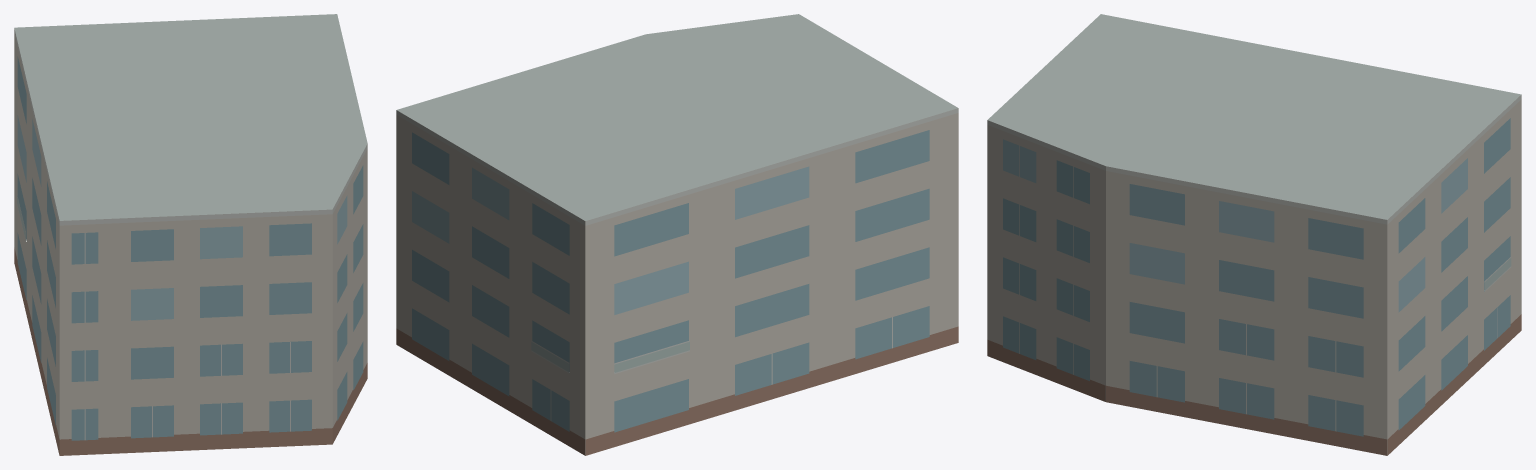
File: residential-4da762c3-fecf-4980-a23a-e8dab1e9cfe7.glb
3 views of the same model, side by side, from view 1: azimuth 30°, elevation 25°; view 2: azimuth 150°, elevation 25°; view 3: azimuth 270°, elevation 25° (orthographic).
Parts seen in each view (by area): view 1: residential-4da762c3-fecf-4980-a23a-e8dab1e9cfe7.tmp; view 2: residential-4da762c3-fecf-4980-a23a-e8dab1e9cfe7.tmp; view 3: residential-4da762c3-fecf-4980-a23a-e8dab1e9cfe7.tmp.
Part boxes in pixels (x1,y1,x2,y2): residential-4da762c3-fecf-4980-a23a-e8dab1e9cfe7.tmp: [14, 14, 367, 455]; residential-4da762c3-fecf-4980-a23a-e8dab1e9cfe7.tmp: [396, 14, 958, 455]; residential-4da762c3-fecf-4980-a23a-e8dab1e9cfe7.tmp: [987, 14, 1521, 455].
Bounding box in the file's own units: 22.85 × 12.2 × 25.05.
